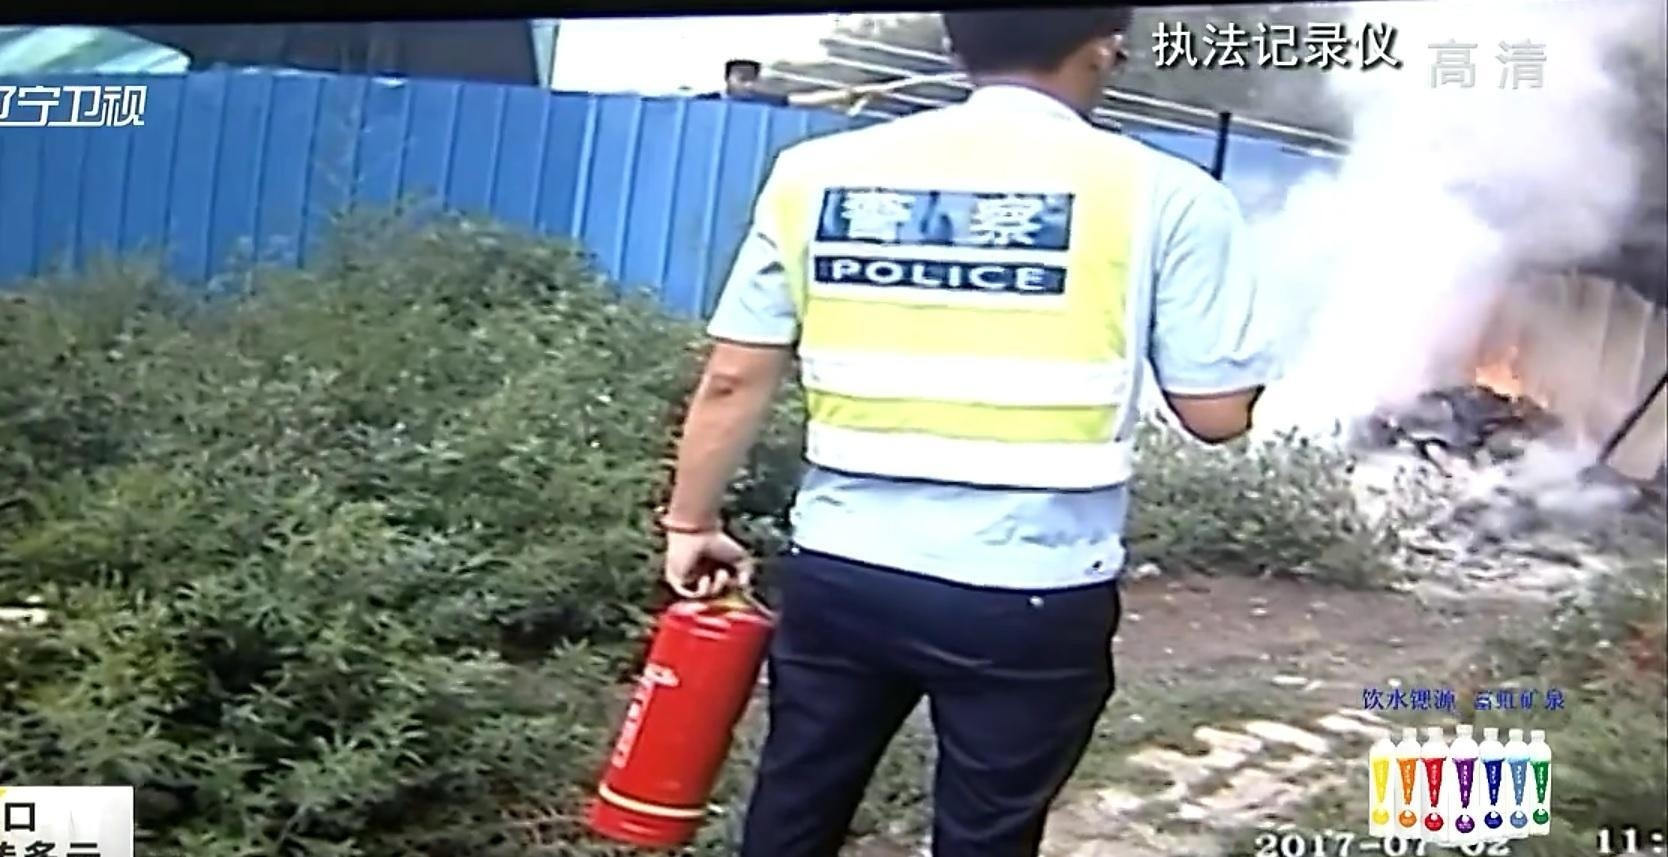fire: (1472, 347, 1531, 397)
